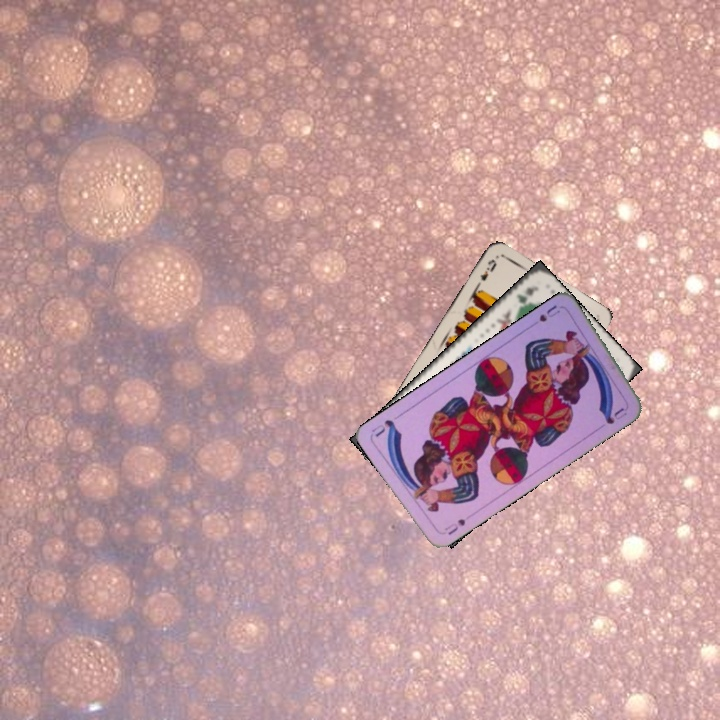E9: (472, 255, 499, 290)
GK: (512, 282, 542, 313)
SU: (436, 514, 468, 538), (534, 301, 563, 327)
